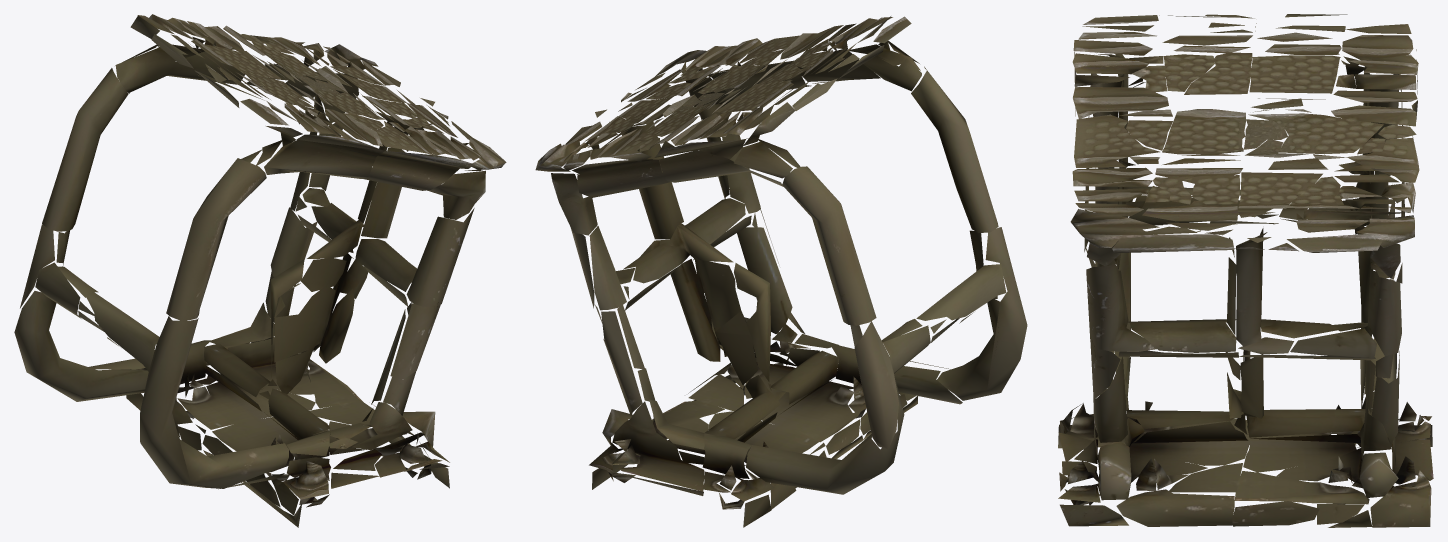
The model's file is footrest_dec.glb.
3 views of the same model, side by side, from view 1: azimuth 30°, elevation 25°; view 2: azimuth 150°, elevation 25°; view 3: azimuth 270°, elevation 25° (orthographic). The views are drawn at different scales.
Parts seen in each view (by area): view 1: tripo_node_ba526edf-1a9d-4c50-9ebb-41c71d02a692; view 2: tripo_node_ba526edf-1a9d-4c50-9ebb-41c71d02a692; view 3: tripo_node_ba526edf-1a9d-4c50-9ebb-41c71d02a692.
Part boxes in pixels (bbox=[...]): tripo_node_ba526edf-1a9d-4c50-9ebb-41c71d02a692: bbox=[14, 14, 506, 527]; tripo_node_ba526edf-1a9d-4c50-9ebb-41c71d02a692: bbox=[535, 16, 1027, 527]; tripo_node_ba526edf-1a9d-4c50-9ebb-41c71d02a692: bbox=[1058, 14, 1433, 527].
Bounding box in the file's own units: 0.9581 × 1.01 × 0.7993.
Materials: 1 (1 with a texture image).
